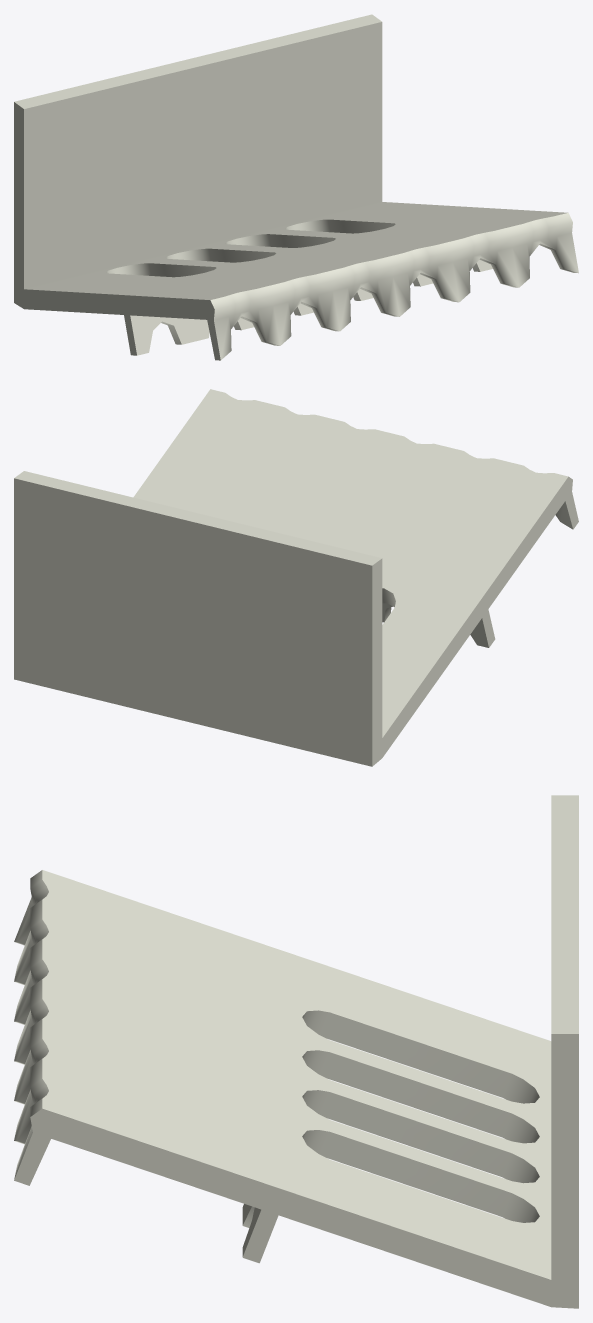
File: PipetteStand_WA.glb
3 views of the same model, one above another, from view 1: azimuth 30°, elevation 25°; view 2: azimuth 150°, elevation 25°; view 3: azimuth 270°, elevation 25° (orthographic). The views are drawn at different scales.
Visible parts, largest first — view 1: Pipette Stand; view 2: Pipette Stand; view 3: Pipette Stand.
Boxes of the visible parts, box(x1,y1,x2,y2) form: Pipette Stand: box(14, 14, 578, 360); Pipette Stand: box(14, 389, 578, 766); Pipette Stand: box(14, 795, 578, 1308).
Bounding box in the file's own units: 0.3 × 0.161 × 0.3.
Materials: 1 (1 with a texture image).
